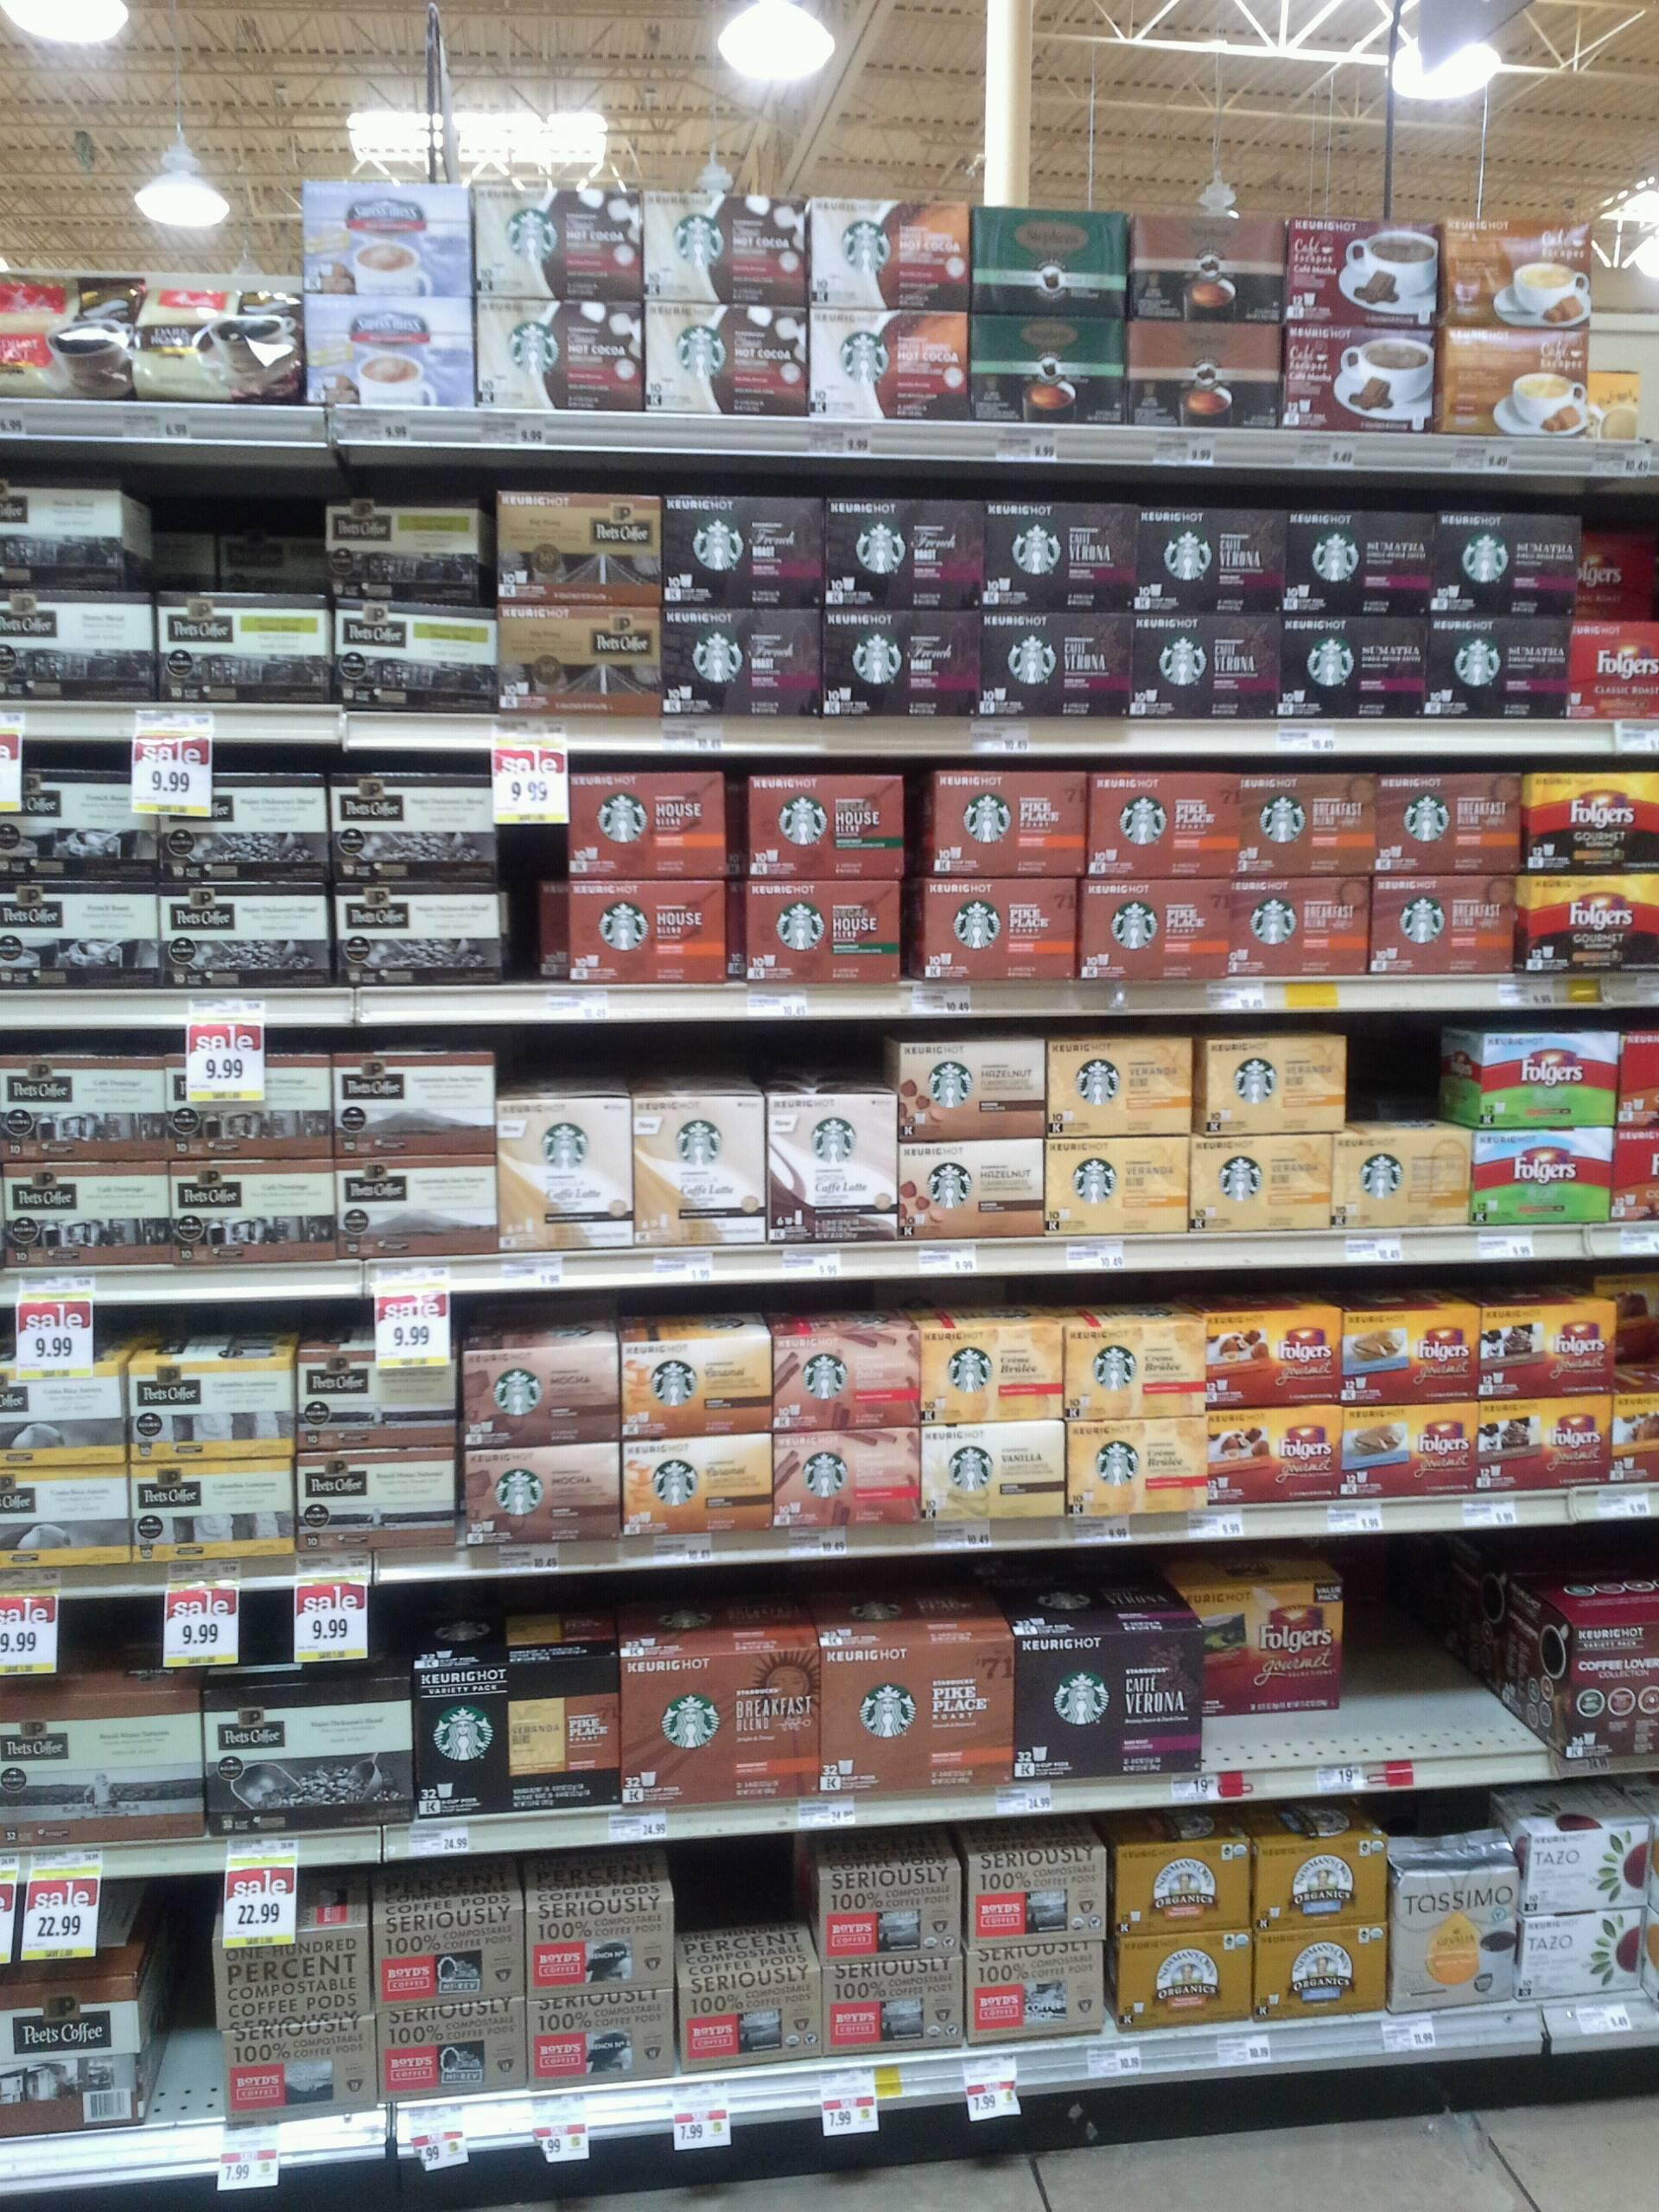empty: (1352, 1562, 1506, 1742), (143, 496, 317, 603), (145, 1956, 225, 2123), (1351, 1035, 1448, 1125)
